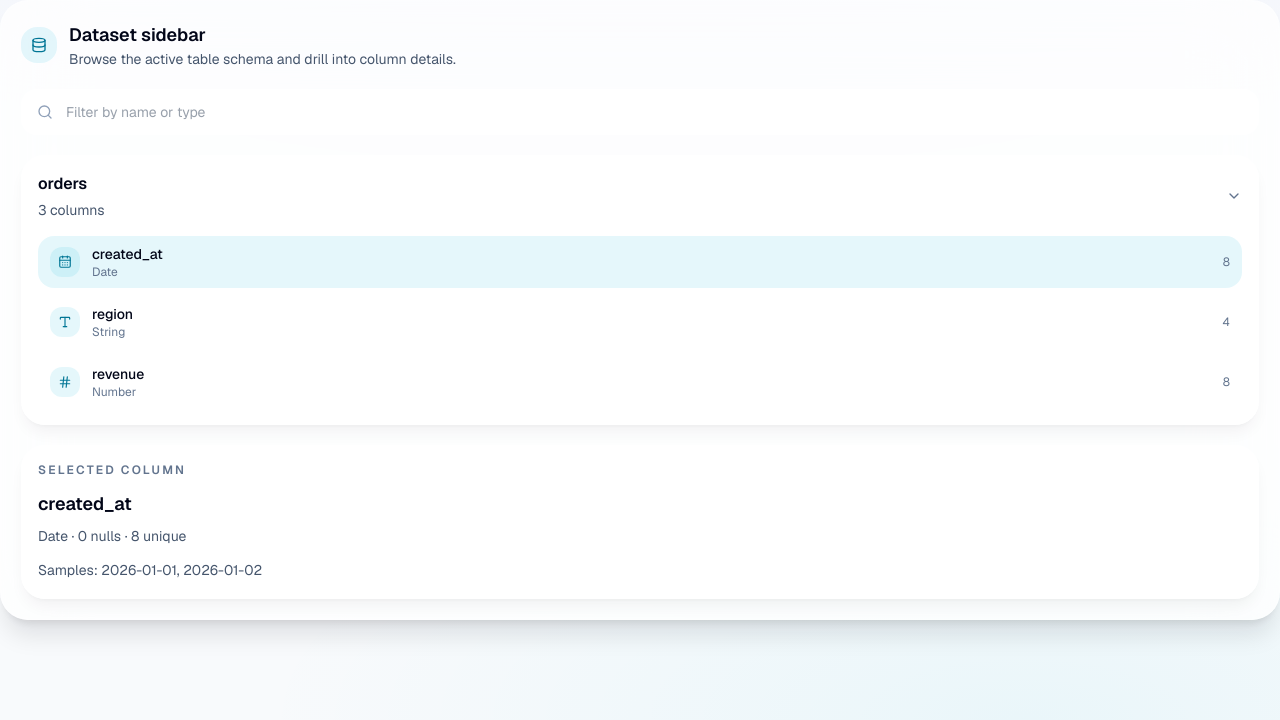
Scenario: DatasetSidebar › filters the visible columns with the search input
In the field named "Search columns": (640,112) [21, 89, 1259, 135], type "rev"
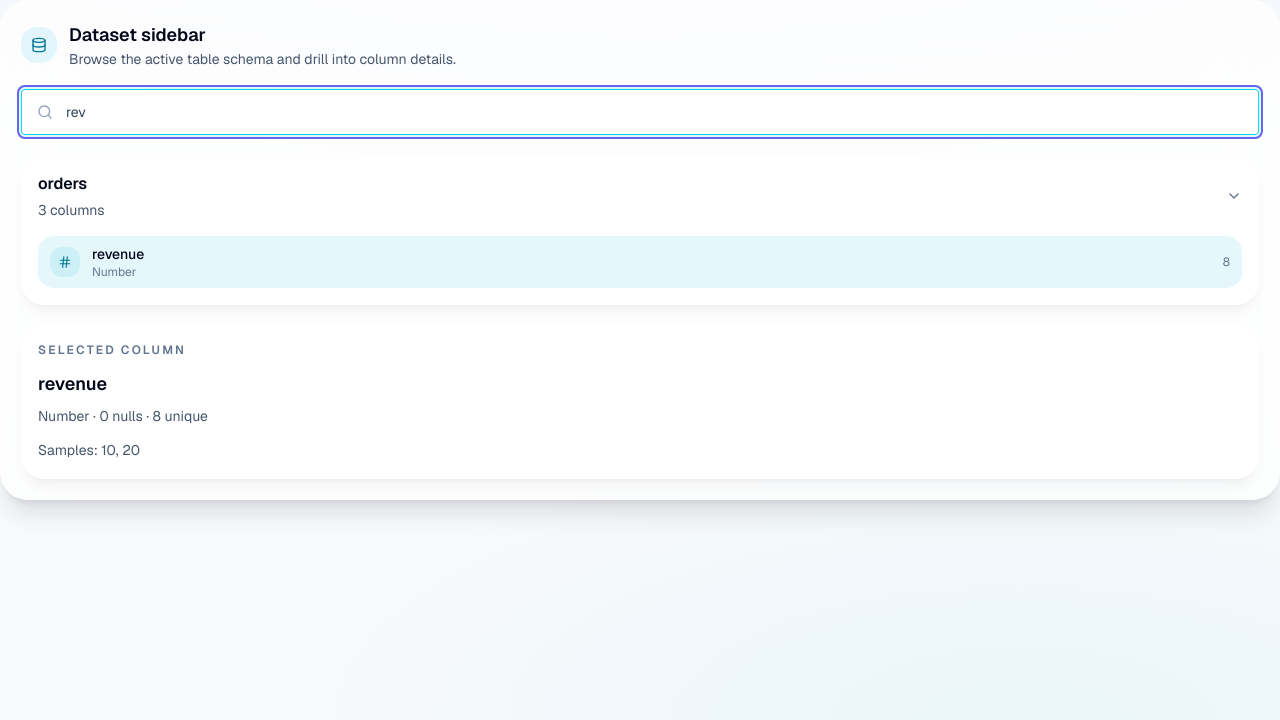
Expected: the 1st text "revenue" is shown, [92, 244, 144, 264]
Now the button "region" is gone
